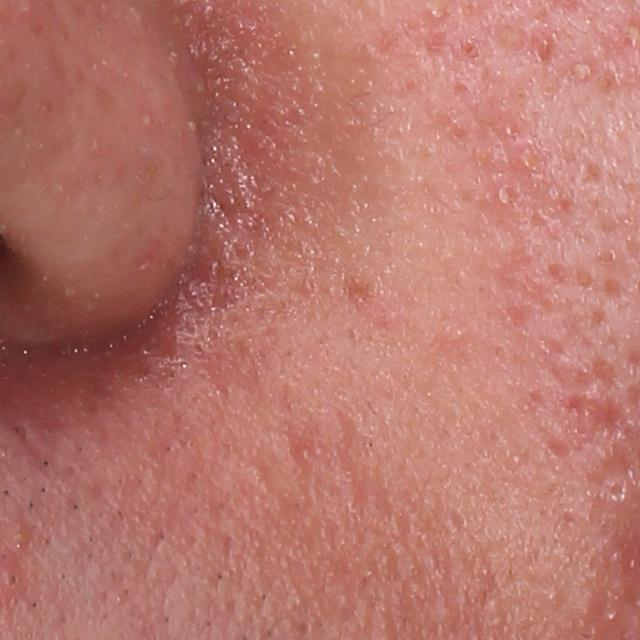atrophic_scar: (563, 392, 636, 445), (542, 425, 579, 468)
comedo: (604, 476, 628, 505)
papule: (534, 32, 556, 56)
pustule: (564, 53, 604, 85), (488, 177, 515, 212)
